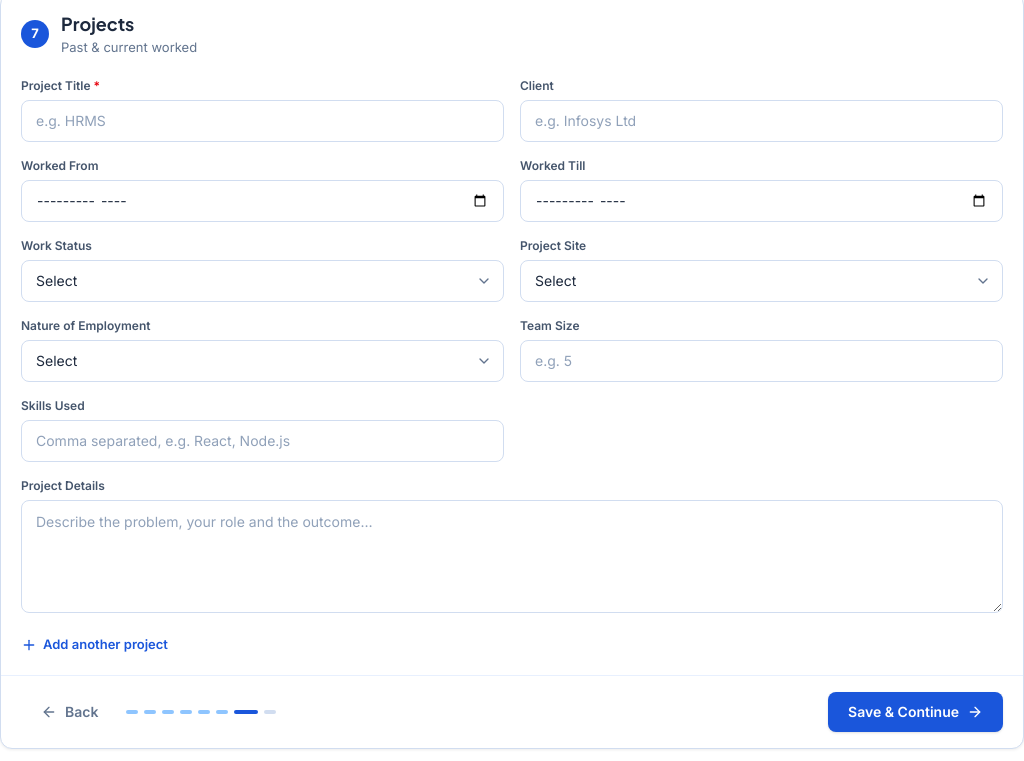
Test: ProjectsStep › shows which field the API rejected instead of a bare "try again"
The image size is (1024, 761).
Type "HRMS" into the field labelled "Project Title *" at point(262, 120), box [21, 100, 504, 142]
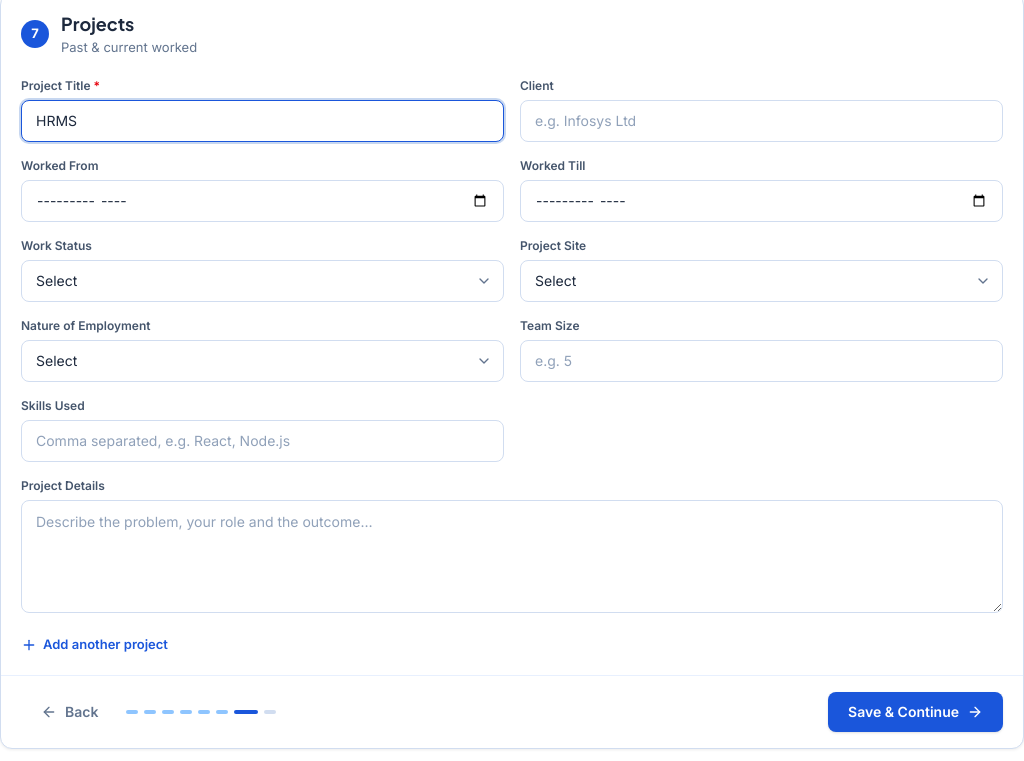
Click the button "Save & Continue" at point(916, 712), box [828, 692, 1003, 732]
(page scrolled)
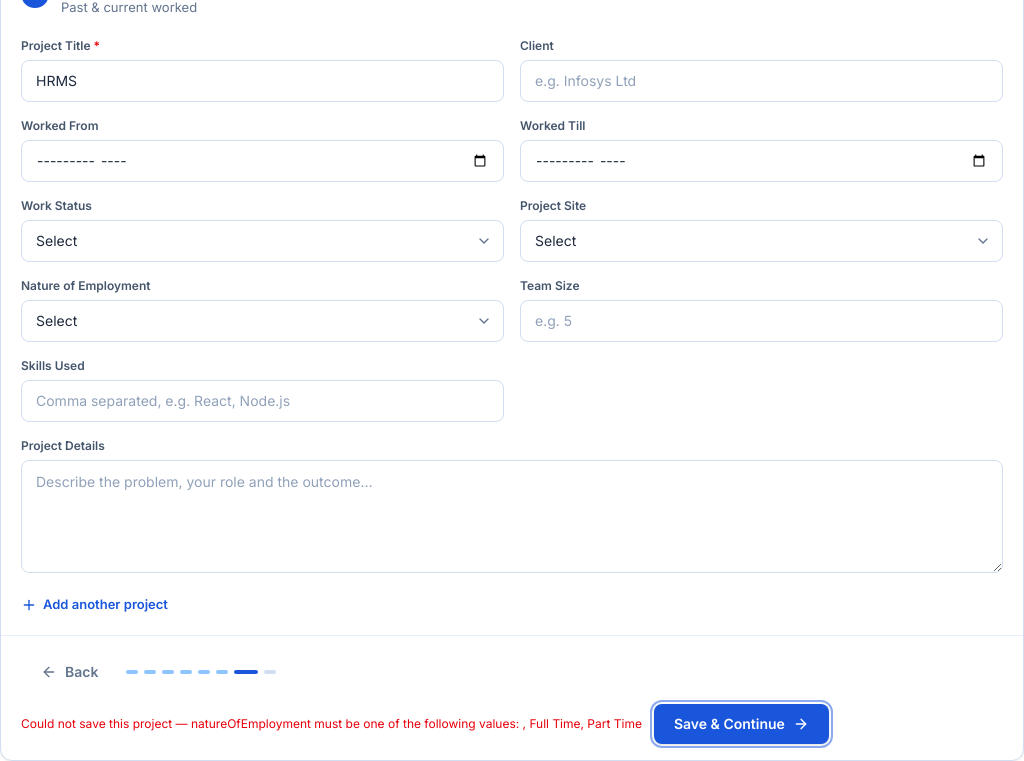
Now the text "natureOfEmployment must be one of" is shown, box [21, 716, 642, 730]
